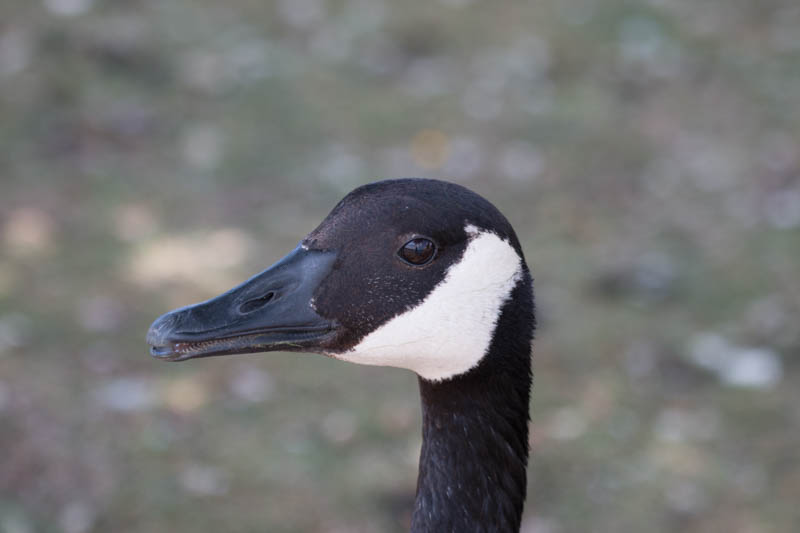goose-head: (147, 178, 535, 382)
